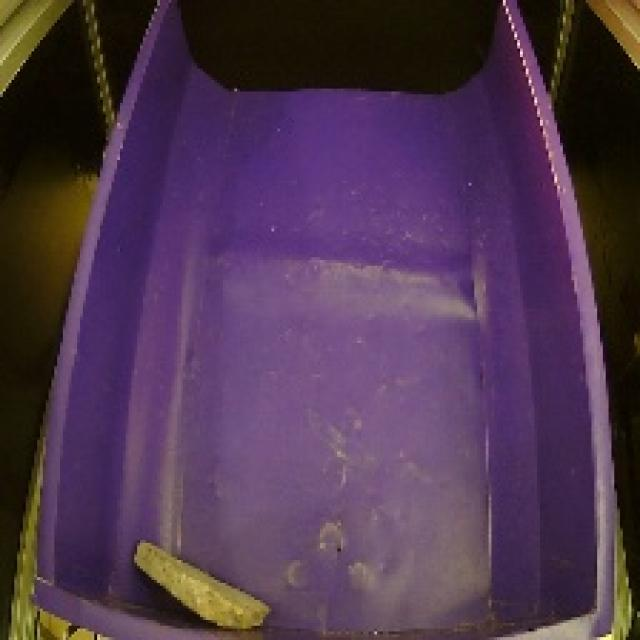china: (123, 514, 279, 640)
